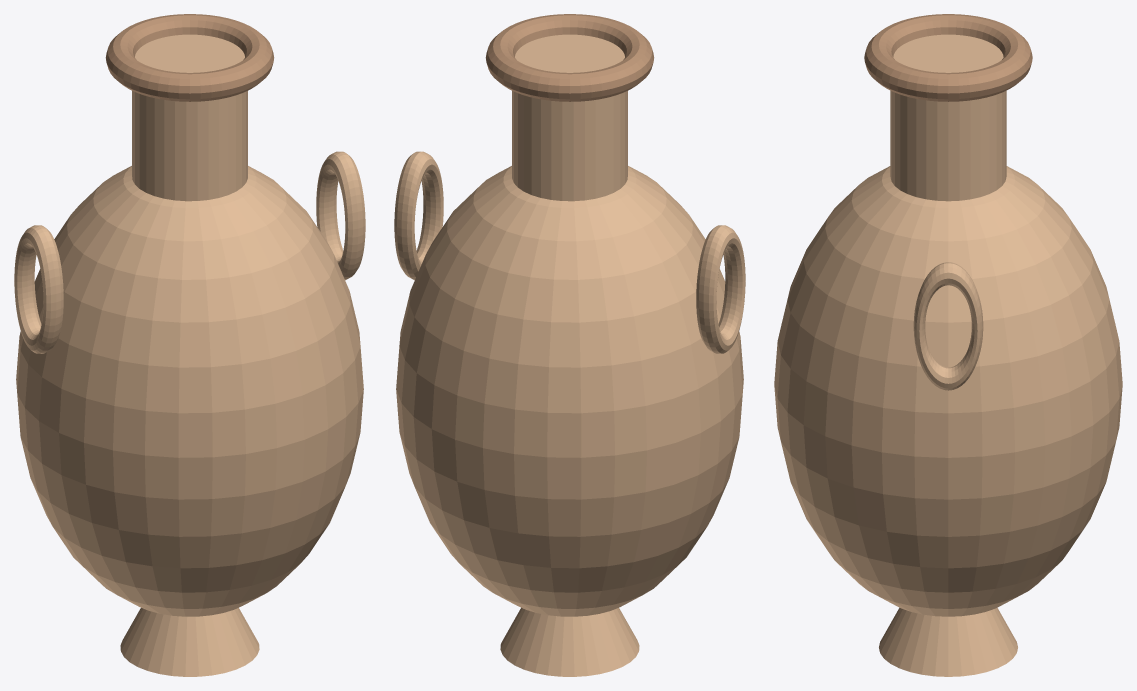
File: amphora.glb
The picture shows the model from 3 angles, left to right: view 1: azimuth 30°, elevation 25°; view 2: azimuth 150°, elevation 25°; view 3: azimuth 270°, elevation 25°; orthographic projection.
Visible parts, largest first — view 1: Sphere, Cylinder, Torus, Cone, Torus.001, Torus.002; view 2: Sphere, Cylinder, Torus, Cone, Torus.001, Torus.002; view 3: Sphere, Cylinder, Torus, Cone, Torus.002.
Part boxes in pixels (bbox=[...]): Sphere: bbox=[16, 166, 363, 616]; Cylinder: bbox=[132, 34, 247, 201]; Torus: bbox=[105, 14, 274, 101]; Cone: bbox=[120, 607, 259, 676]; Torus.001: bbox=[14, 225, 63, 353]; Torus.002: bbox=[316, 151, 365, 280]; Sphere: bbox=[396, 166, 743, 616]; Cylinder: bbox=[512, 34, 627, 201]; Torus: bbox=[485, 14, 654, 101]; Cone: bbox=[500, 607, 639, 676]; Torus.001: bbox=[696, 225, 745, 353]; Torus.002: bbox=[394, 151, 443, 280]; Sphere: bbox=[774, 166, 1122, 616]; Cylinder: bbox=[890, 34, 1006, 201]; Torus: bbox=[864, 14, 1032, 101]; Cone: bbox=[879, 607, 1017, 676]; Torus.002: bbox=[913, 262, 983, 390].
Size of the model in its own units: 0.64 by 1.15 by 0.6.
